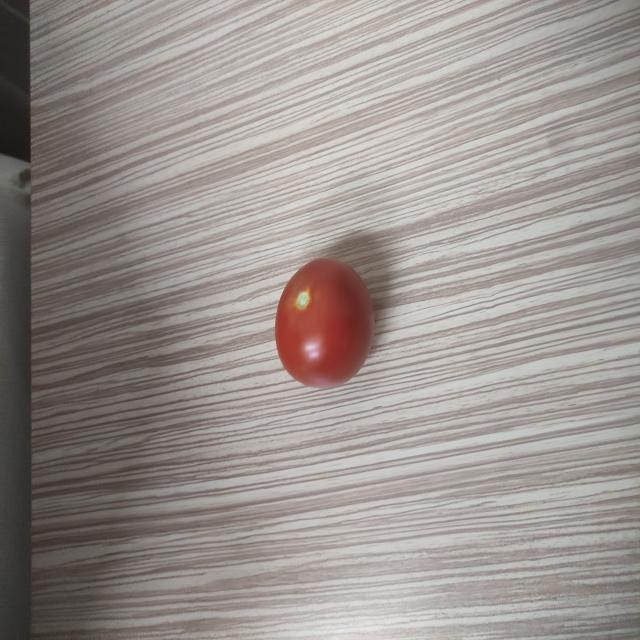kirmizi: (258, 256, 402, 394)
